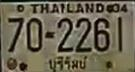0: (26, 17, 41, 51)
1: (117, 16, 122, 51)
2: (75, 16, 90, 52), (57, 17, 72, 51)
6: (93, 17, 109, 51)
7: (7, 16, 23, 52)
BRM: (46, 55, 89, 72)
